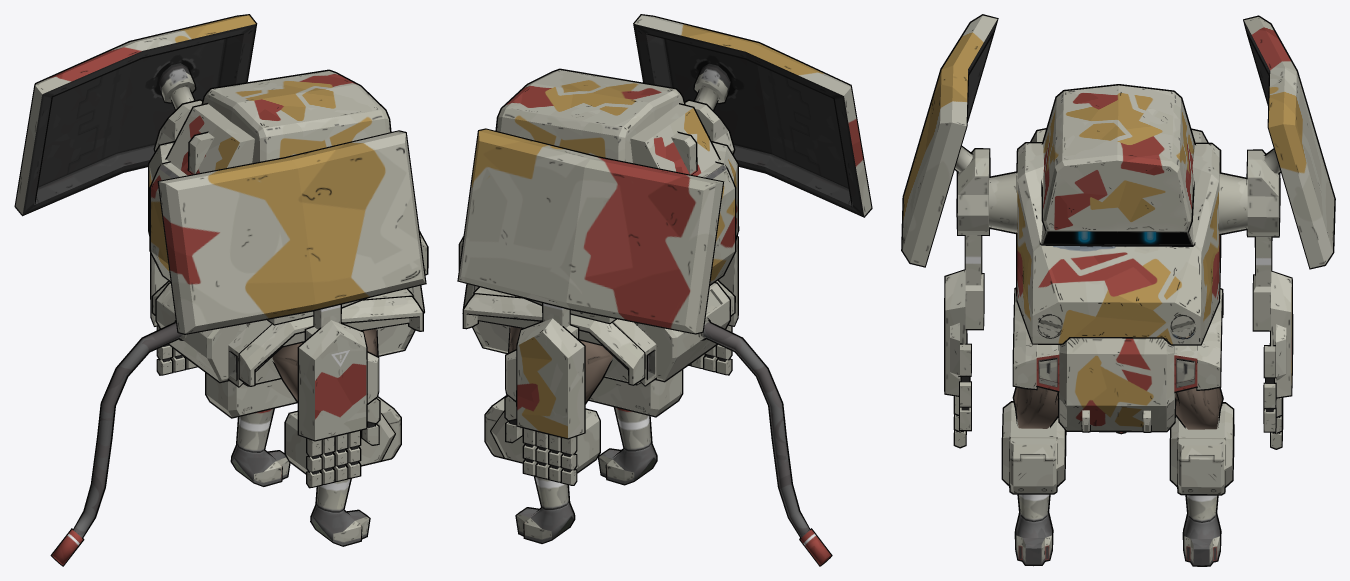
Rendered from charlie.glb.
3 views of the same model, side by side, from view 1: azimuth 30°, elevation 25°; view 2: azimuth 150°, elevation 25°; view 3: azimuth 270°, elevation 25° (orthographic). The views are drawn at different scales.
Parts seen in each view (by area): view 1: Shoulder_Pads, outline, Head, Hands, Legs, Knee, Tail, Hip-outer, Head_Back, Boot, Back, Air_Hips (+6 smaller); view 2: Shoulder_Pads, outline, Head, Hands, Legs, Knee, Tail, Hip-outer, Head_Back, Boot, Back, Air_Hips (+5 smaller); view 3: Head, Chest, Shoulder_Pads, outline, Lower_Body, Knee, Shoulder, Legs, Hands, Arms, Hips, Arm_Joints (+5 smaller).
Boxes of the visible parts, x1=… form: Shoulder_Pads: x1=15, y1=15, x2=425, y2=333; outline: x1=14, y1=14, x2=428, y2=566; Head: x1=203, y1=71, x2=389, y2=162; Hands: x1=151, y1=255, x2=366, y2=440; Legs: x1=232, y1=409, x2=369, y2=545; Knee: x1=206, y1=374, x2=400, y2=472; Tail: x1=52, y1=323, x2=186, y2=565; Hip-outer: x1=153, y1=282, x2=422, y2=385; Head_Back: x1=166, y1=104, x2=254, y2=175; Boot: x1=156, y1=283, x2=247, y2=381; Back: x1=149, y1=142, x2=178, y2=280; Air_Hips: x1=228, y1=289, x2=412, y2=386; Shoulder_Pads: x1=458, y1=15, x2=871, y2=333; outline: x1=457, y1=14, x2=872, y2=566; Head: x1=497, y1=70, x2=683, y2=162; Hands: x1=517, y1=237, x2=737, y2=437; Legs: x1=516, y1=407, x2=656, y2=542; Knee: x1=485, y1=370, x2=681, y2=471; Tail: x1=698, y1=319, x2=830, y2=565; Hip-outer: x1=464, y1=281, x2=734, y2=384; Head_Back: x1=630, y1=104, x2=719, y2=175; Boot: x1=637, y1=283, x2=729, y2=380; Back: x1=706, y1=142, x2=737, y2=283; Air_Hips: x1=475, y1=287, x2=656, y2=385; Head: x1=1041, y1=85, x2=1194, y2=244; Chest: x1=1017, y1=143, x2=1219, y2=344; Shoulder_Pads: x1=902, y1=15, x2=1334, y2=268; outline: x1=901, y1=14, x2=1335, y2=566; Lower_Body: x1=1059, y1=338, x2=1175, y2=430; Knee: x1=1003, y1=402, x2=1232, y2=494; Shoulder: x1=957, y1=149, x2=1279, y2=236; Legs: x1=1016, y1=494, x2=1219, y2=565; Hands: x1=945, y1=270, x2=1291, y2=397; Arms: x1=965, y1=235, x2=1271, y2=330; Hips: x1=1014, y1=387, x2=1222, y2=429; Arm_Joints: x1=989, y1=172, x2=1247, y2=233.
Bounding box in the file's own units: 3.17 × 3.72 × 3.28.
Materials: 2 (1 with a texture image).
